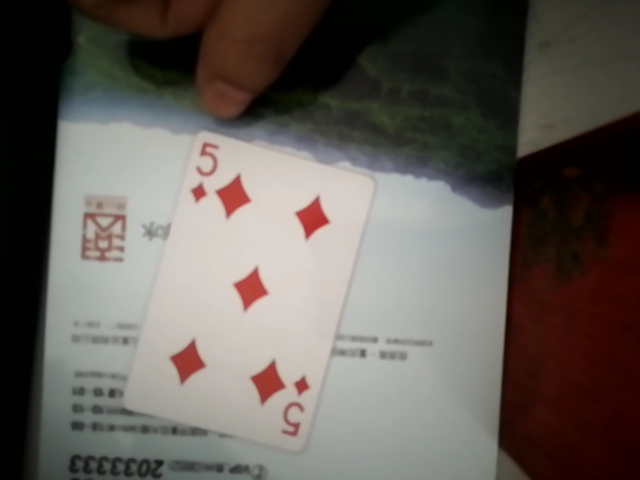fk 5: (121, 124, 373, 458)
